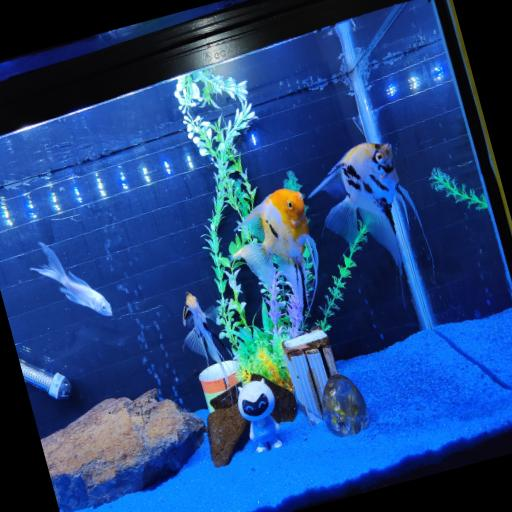Fish: (308, 143, 418, 272), (232, 189, 317, 310), (30, 242, 111, 316), (182, 293, 229, 389)
